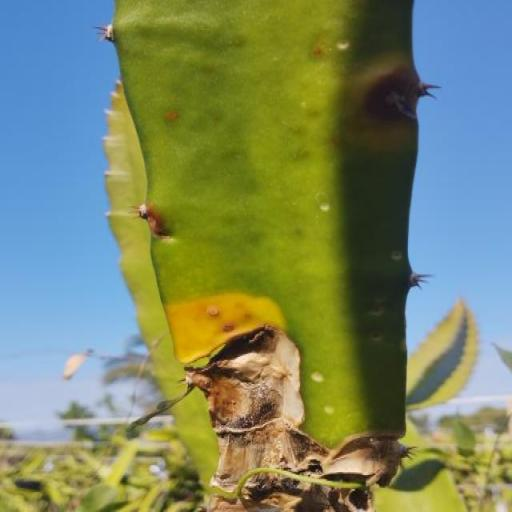stemcanker: (364, 297, 390, 322), (304, 39, 326, 66), (161, 108, 185, 126), (388, 244, 404, 269), (308, 365, 326, 387), (368, 326, 386, 347), (326, 131, 344, 151), (321, 401, 337, 417)
